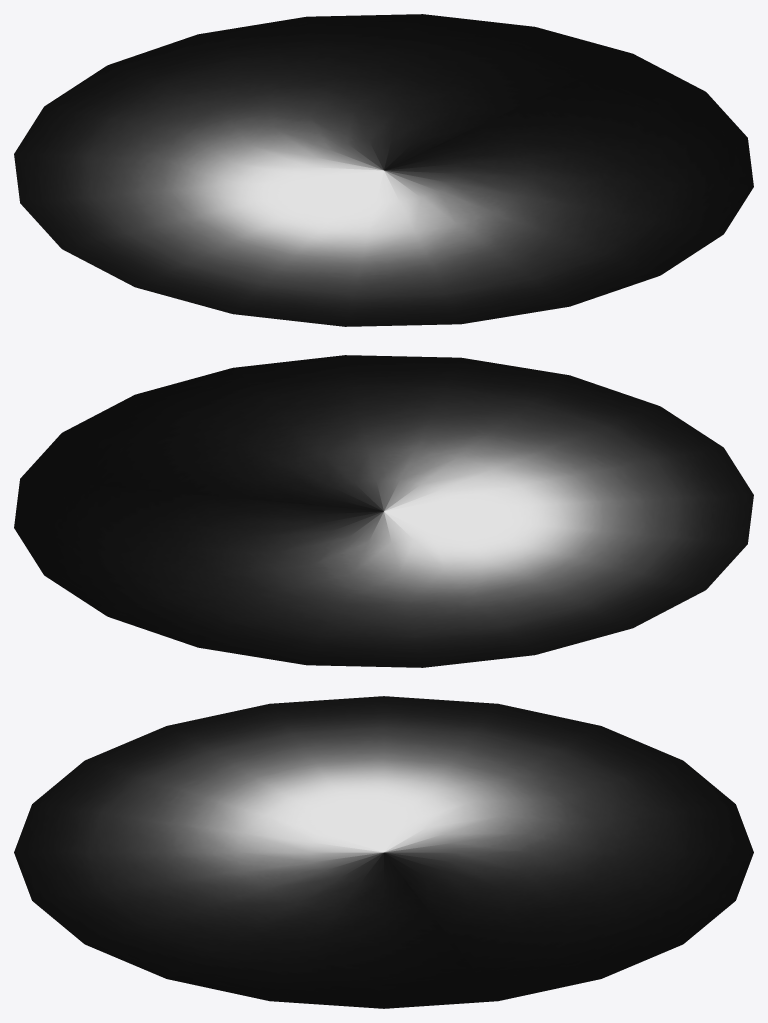
The model's file is FX_SM_Leviosa_ScrollingMesh.fbx.
The picture shows the model from 3 angles, top to bottom: view 1: azimuth 30°, elevation 25°; view 2: azimuth 150°, elevation 25°; view 3: azimuth 270°, elevation 25°; orthographic projection.
Parts seen in each view (by area): view 1: SM_FX_ScrollingCylinder; view 2: SM_FX_ScrollingCylinder; view 3: SM_FX_ScrollingCylinder.
Part boxes in pixels (bbox=[...]): SM_FX_ScrollingCylinder: bbox=[14, 14, 753, 326]; SM_FX_ScrollingCylinder: bbox=[14, 355, 753, 667]; SM_FX_ScrollingCylinder: bbox=[14, 696, 753, 1008].
Size of the model in its own units: 0.02 by 0.02 by 8.88e-18.
